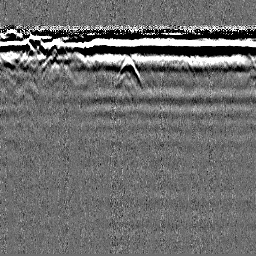cavity: (116, 54, 142, 86)
